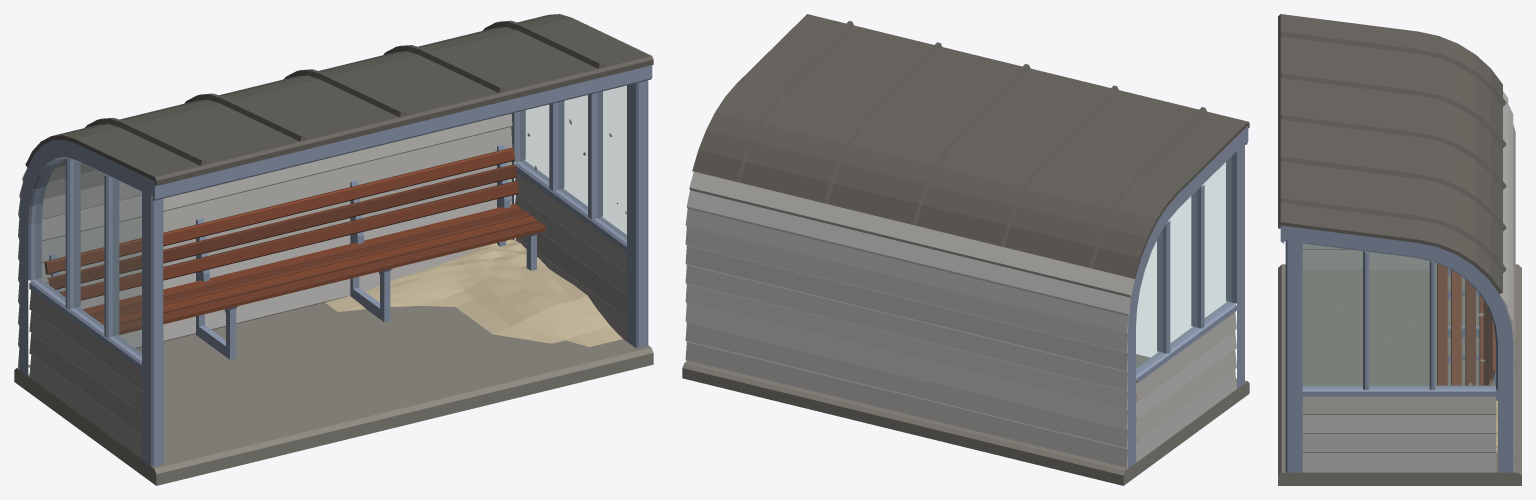
Rendered from promenade-shelter-788f46.glb.
3 renders of one model, left to right at view 1: azimuth 30°, elevation 25°; view 2: azimuth 150°, elevation 25°; view 3: azimuth 270°, elevation 25°, orthographic. The views are drawn at different scales.
Visible parts, largest first — view 1: shelter, glazing; view 2: shelter, glazing; view 3: shelter, glazing.
Part boxes in pixels (x1,y1,x2,y2): shelter: (14, 14, 653, 485); glazing: (35, 86, 626, 356); shelter: (682, 14, 1249, 485); glazing: (1136, 157, 1231, 371); shelter: (1278, 14, 1521, 485); glazing: (1303, 243, 1495, 387).
Size of the model in its own units: 4 by 2.4 by 1.98.
